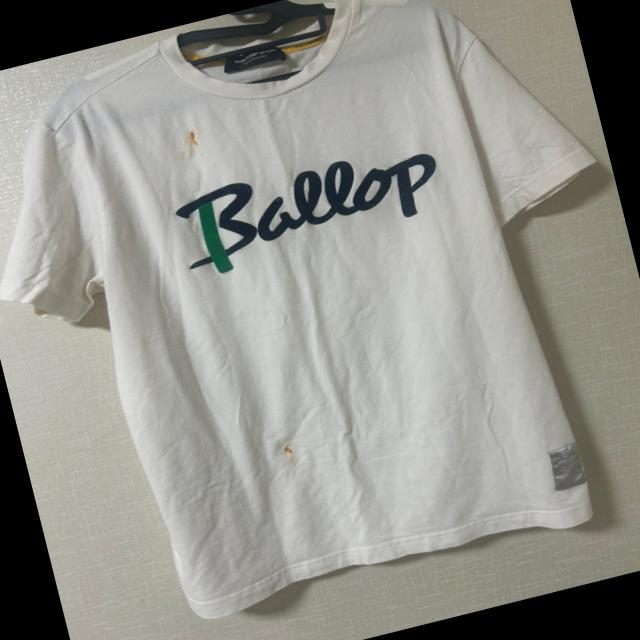stain: (179, 116, 211, 160), (274, 444, 296, 464)
